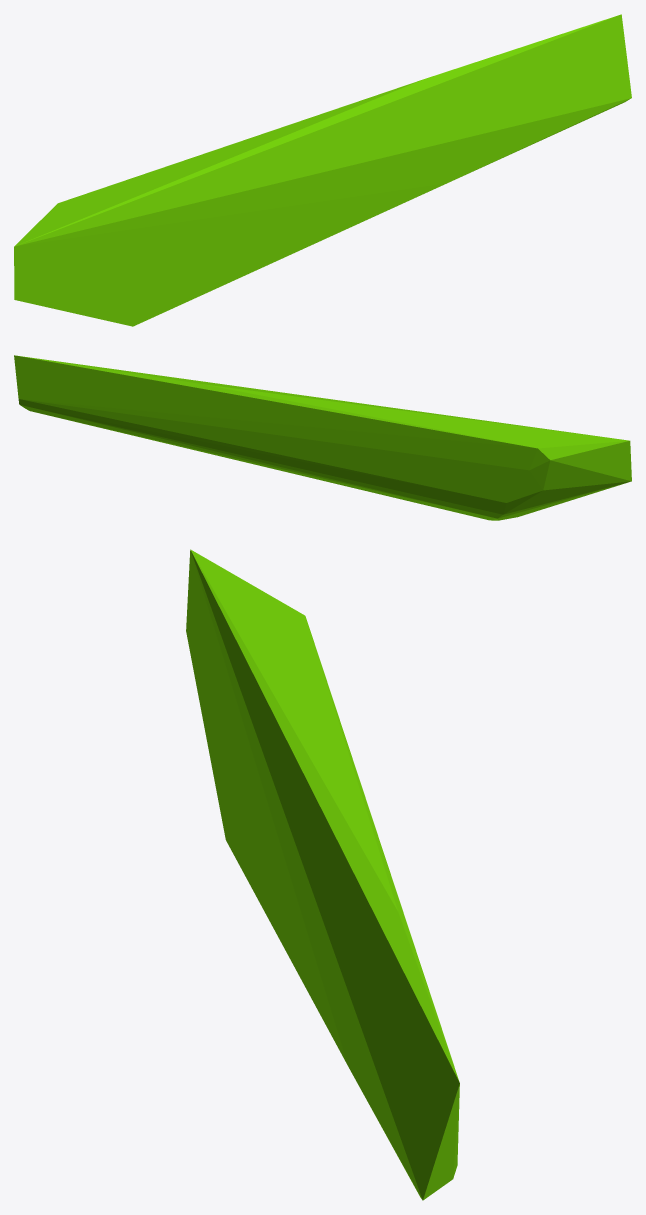
The model's file is arm-L4_convex_piece_001.obj.
3 views of the same model, one above another, from view 1: azimuth 30°, elevation 25°; view 2: azimuth 150°, elevation 25°; view 3: azimuth 270°, elevation 25° (orthographic). The views are drawn at different scales.
Size of the model in its own units: 0.2525 by 0.0429 by 0.0545.
